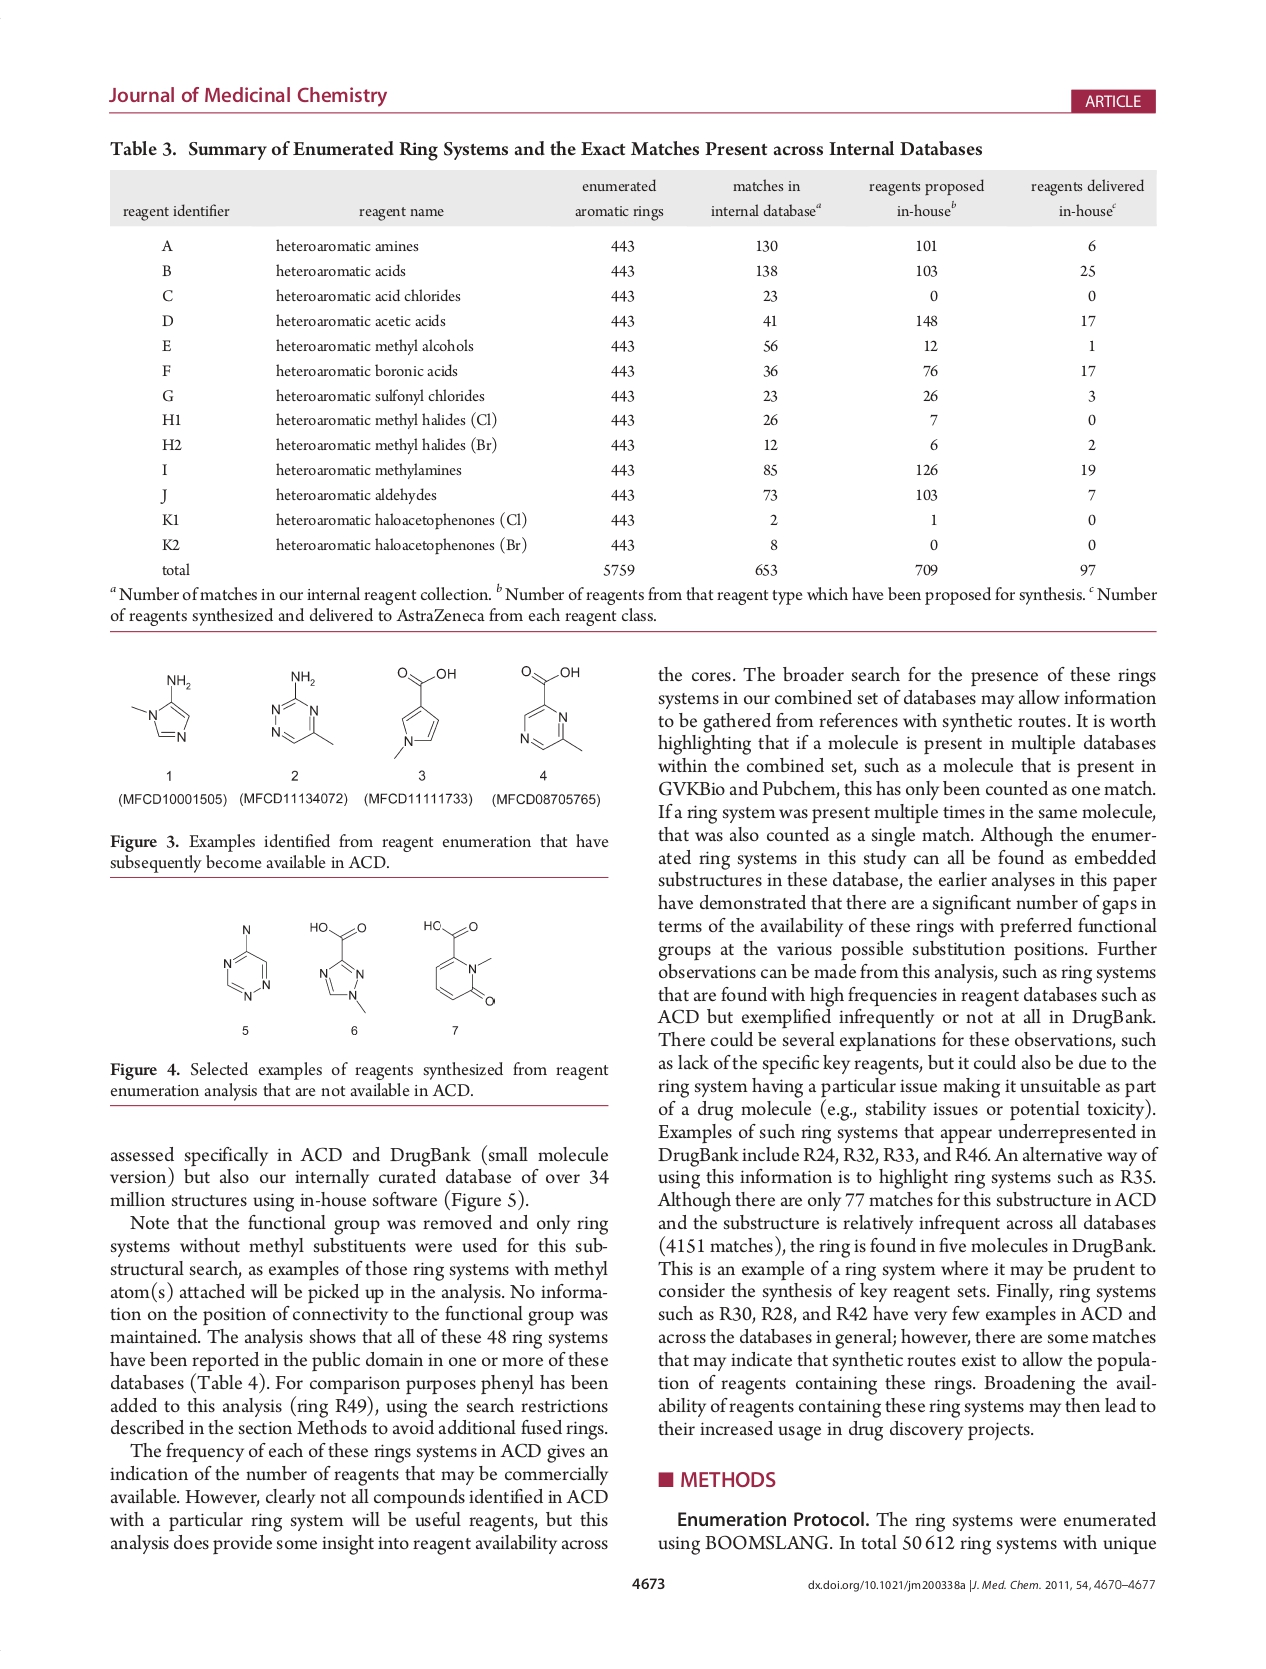exist_molecular: (504, 657, 589, 755), (380, 664, 457, 762), (422, 916, 503, 1008), (263, 660, 340, 754), (305, 916, 375, 1017), (129, 665, 195, 745), (213, 922, 273, 1007)
